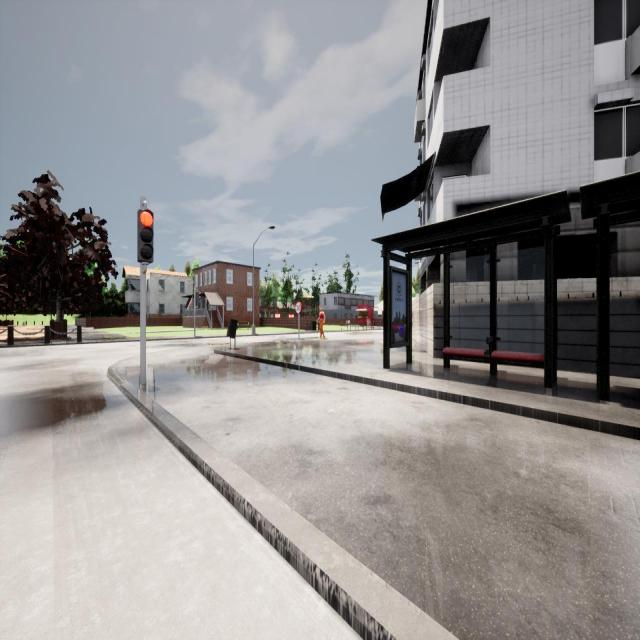Pedestrian: (316, 305, 326, 339)
Traffic_Signs: (295, 302, 303, 314)
traffic_light: (138, 210, 152, 263), (195, 292, 201, 306)
